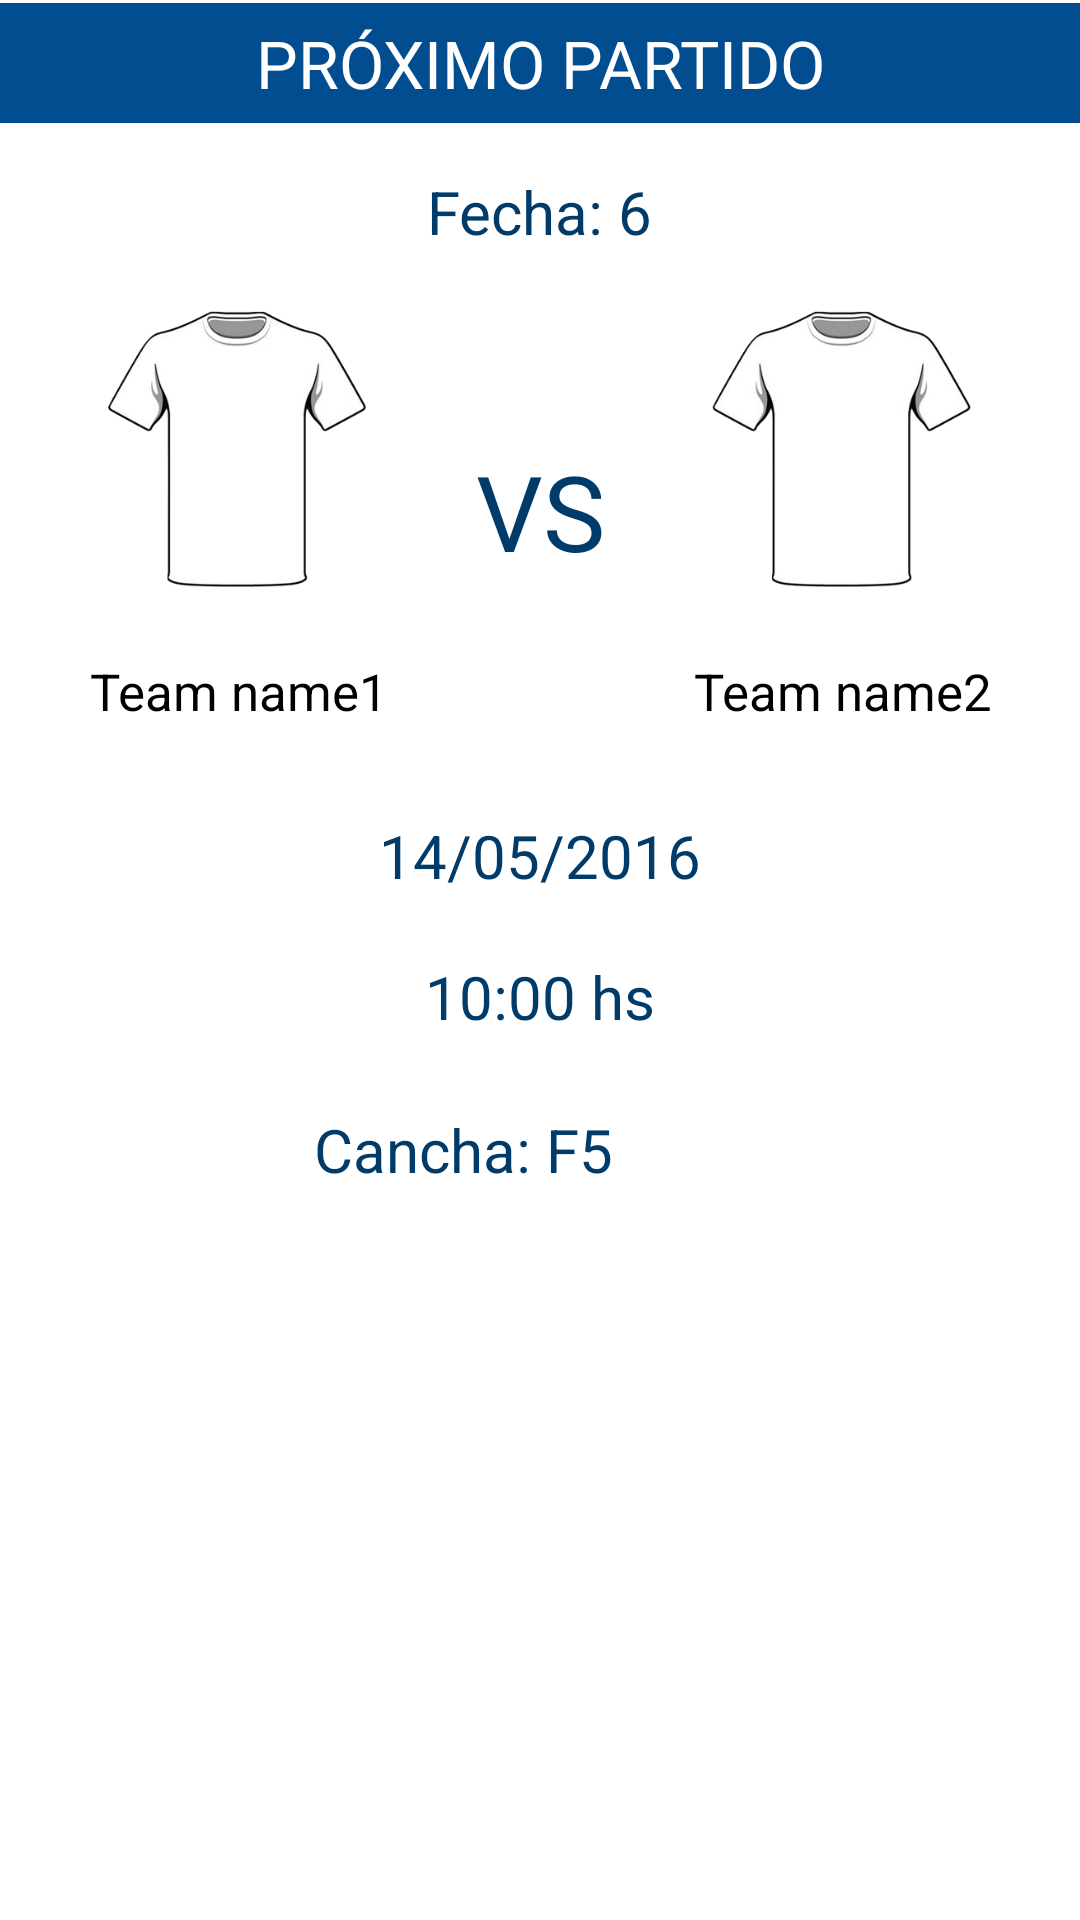

Where icons sit on this 1080 × 1920 app screen, as (x1, y1, x2, y2):
shirt: (108, 311, 366, 587), (712, 311, 971, 587)
